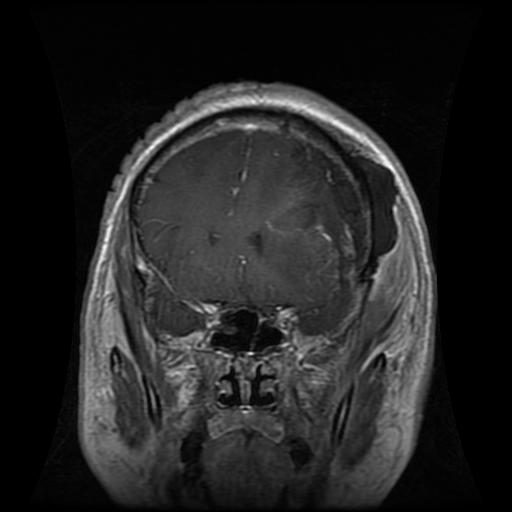Gliomia_tumour: (293, 141, 370, 280)
